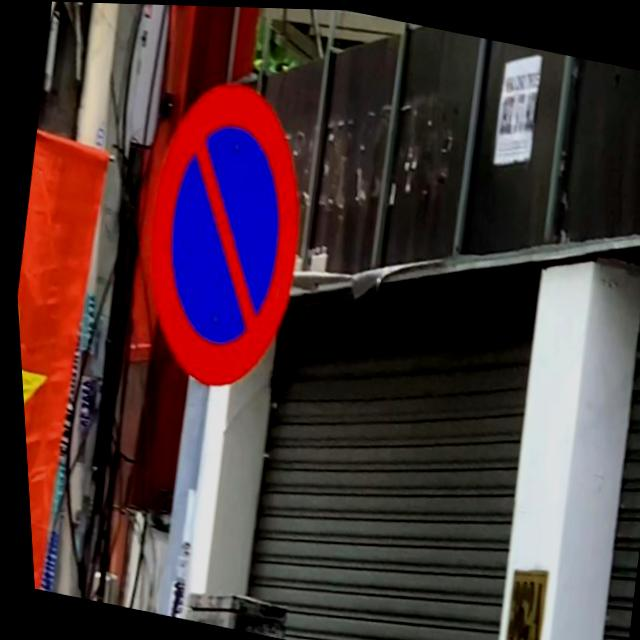Cam do xe: (114, 66, 328, 401)
